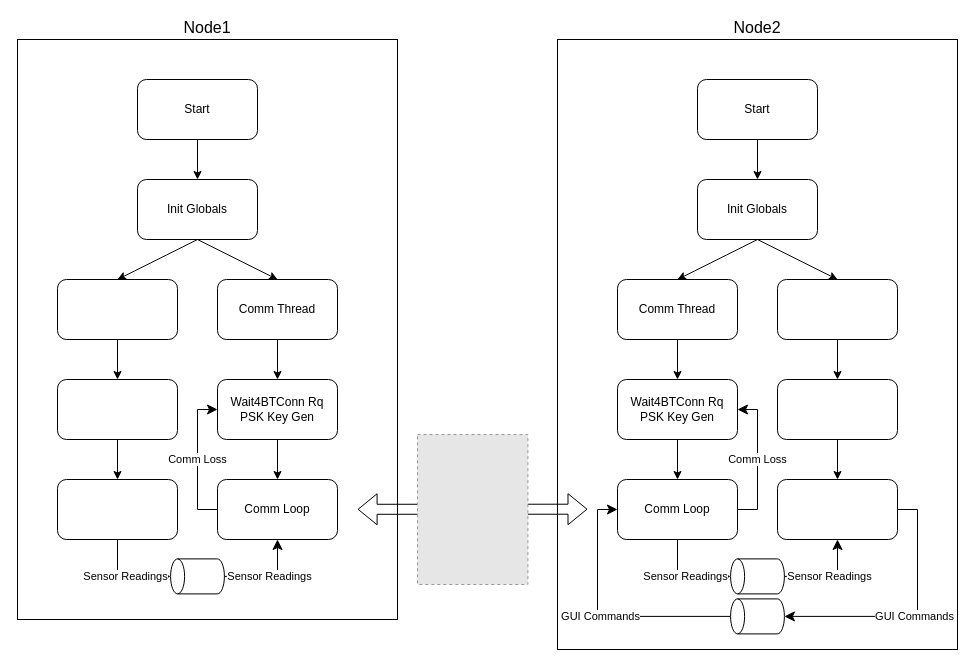
Image size: 975x667. Some labels were removed from this diagram. Grey dashed boxes stand in for pictures. Each missing label, with the centre of its shape:
GUI Init Self-Test: point 837,409
GUI Loop: point 837,509
GUI Thread: point 837,309
I/O Init Self-Test: point 117,409
Sensor Loop: point 117,509
Sensor Thread: point 117,309
